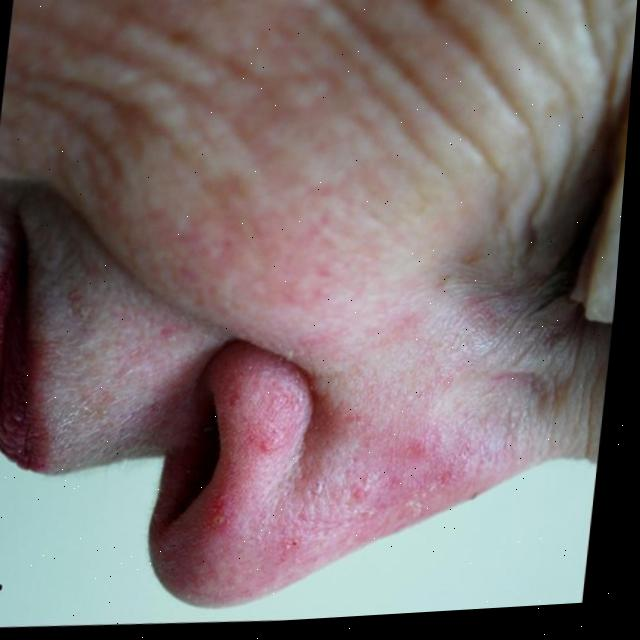Rosacea: (193, 407, 480, 602)
